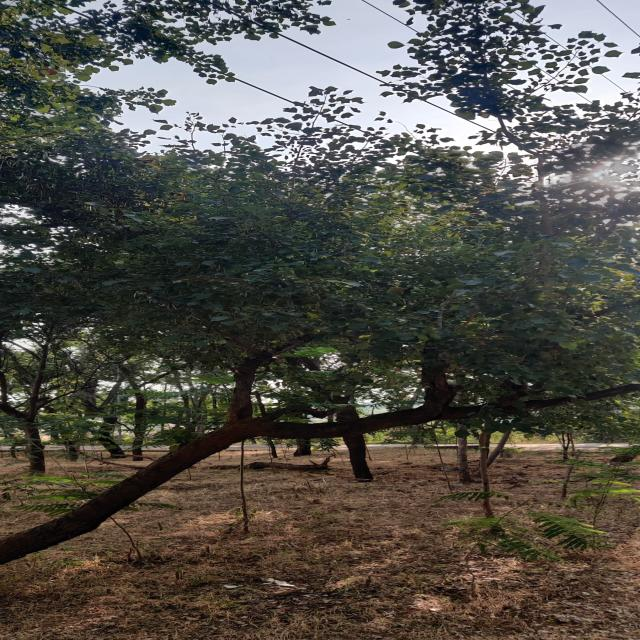Devakanchan tree: (26, 127, 591, 501)
